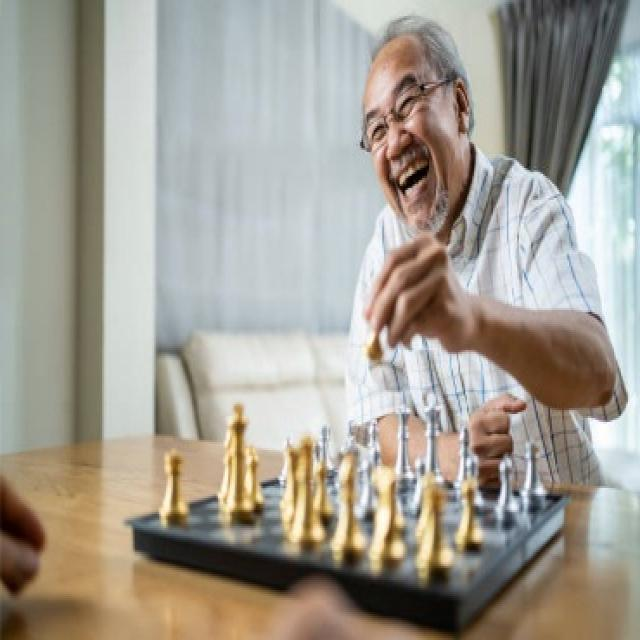adult: (338, 18, 620, 470)
